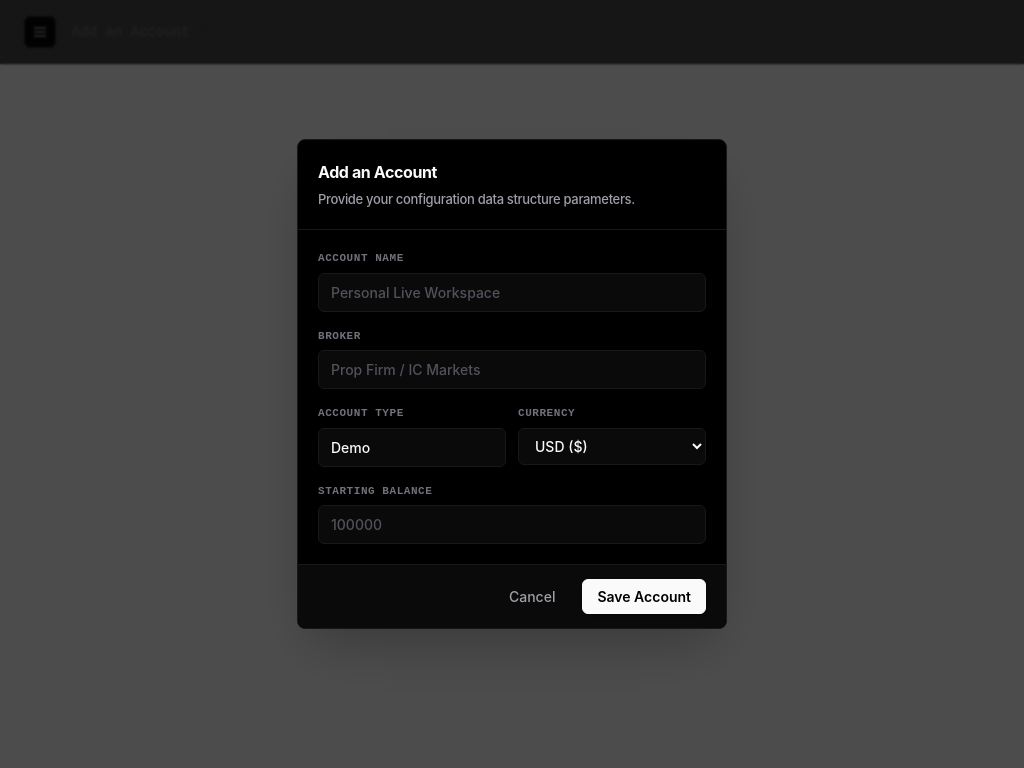
only allows numbers in starting balance
Type "50abc000xyz" into the field with placeholder "100000".
click(512, 525); type("50abc000xyz")  # box [318,505,706,544]
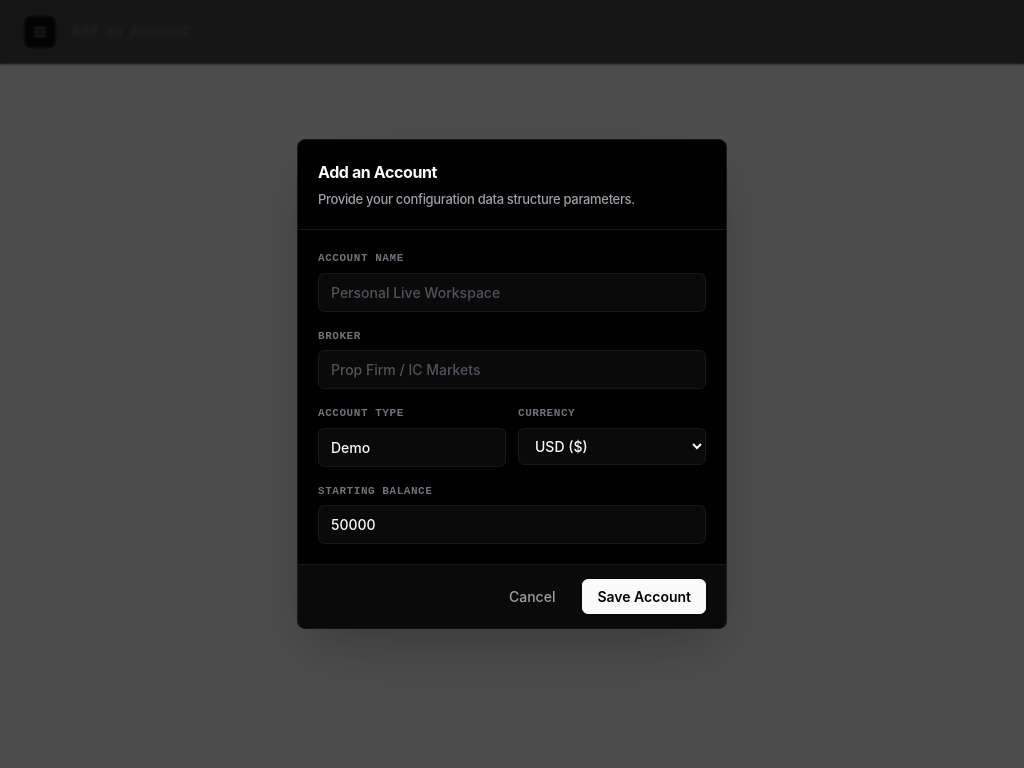
Now the field with placeholder "100000" holds "50000", box [318,505,706,544]
